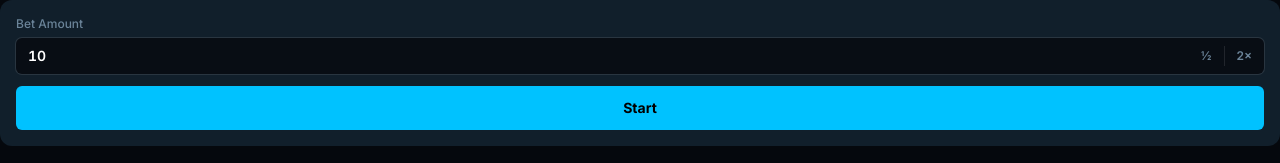
Test: CrashControls › locks the bet input while RUNNING
Click the button "Start": (640, 108) [16, 86, 1264, 130]
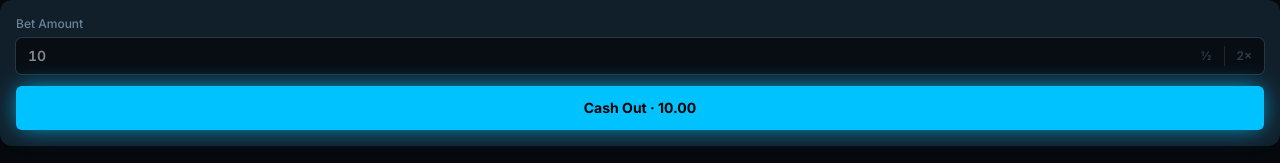
expect the number field is disabled: met, box [16, 38, 1189, 74]
